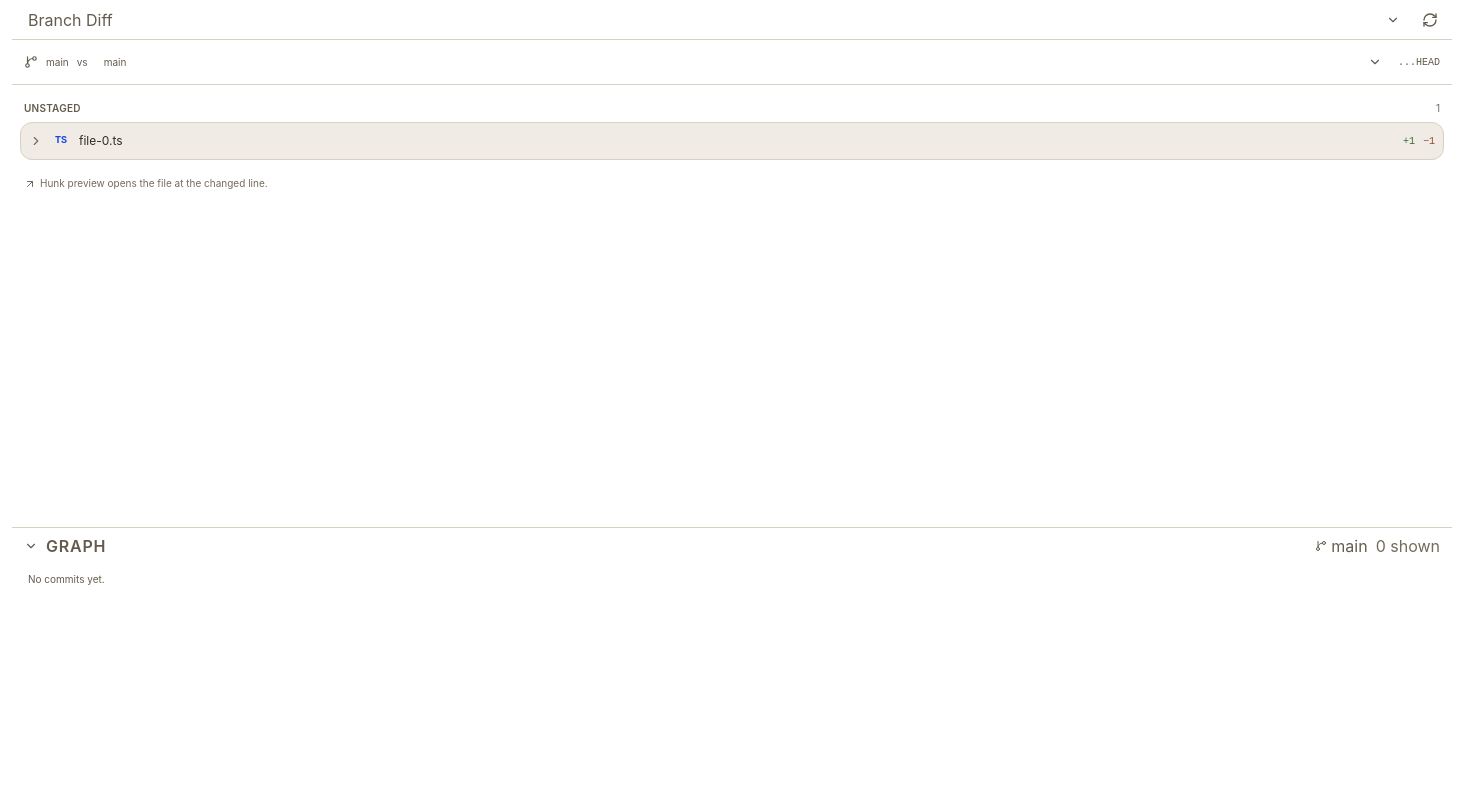
pages a large diff and preserves its page through automatic refresh
Click the button "TS file-0.ts +1 −1": {"x": 101, "y": 140} [21,123,1443,159]
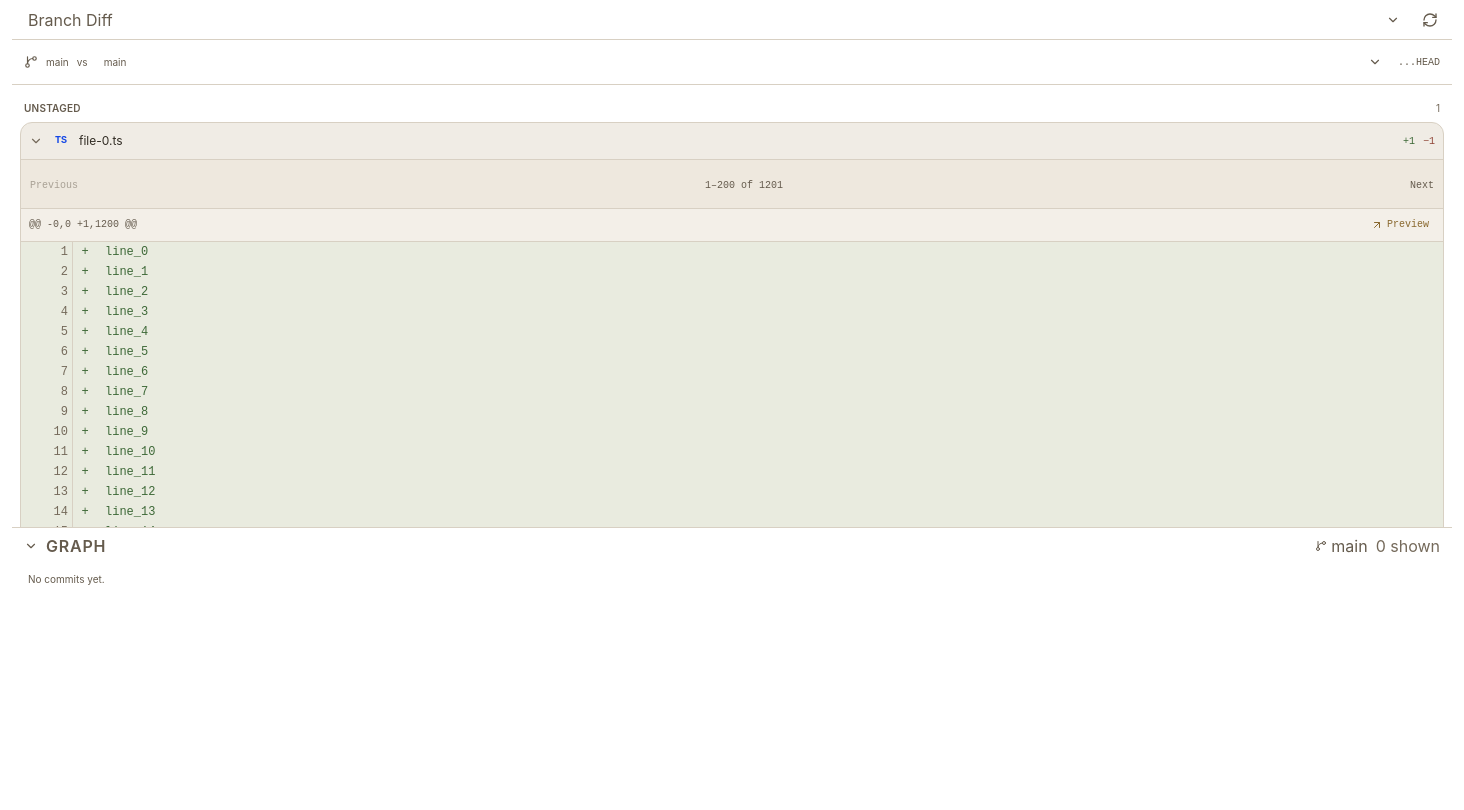
Expected: the text "line_0" is shown, [105,245,148,259]
Click the button "Next": {"x": 1422, "y": 186} [1401,172,1443,200]
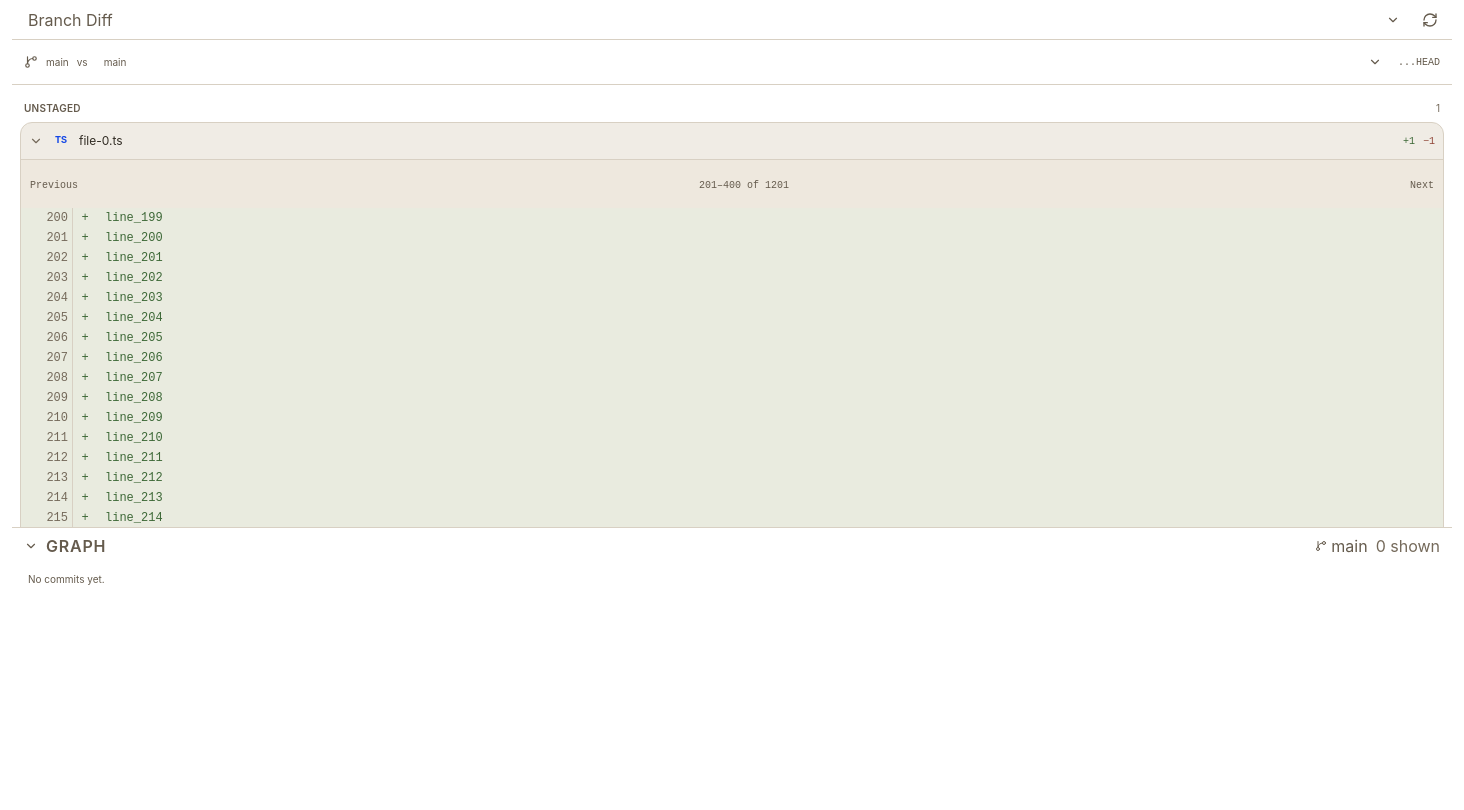
Expected: the text "line_0" is gone
Expected: the text "line_199" is shown, [105,211,163,225]
